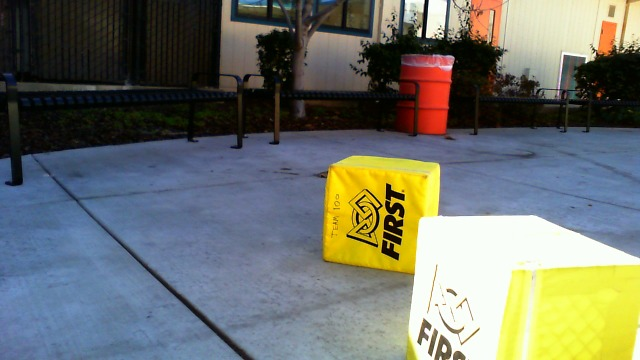cube: (414, 214, 636, 360), (323, 155, 442, 281)
